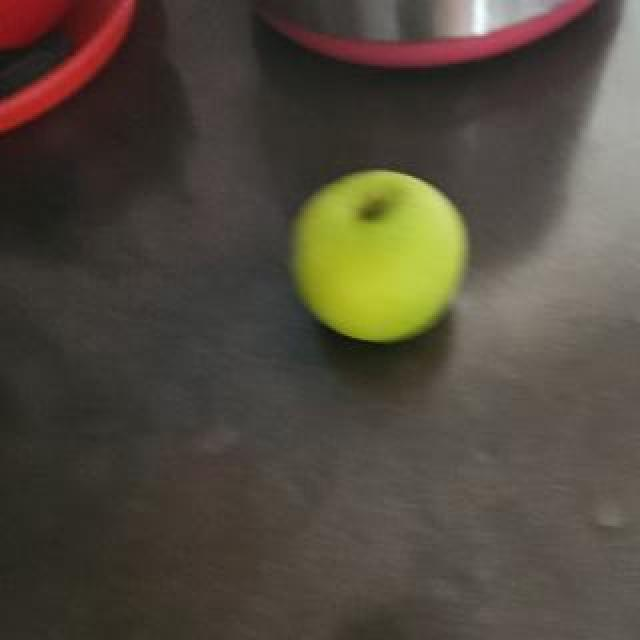Fresh Apple: (284, 168, 474, 355)
